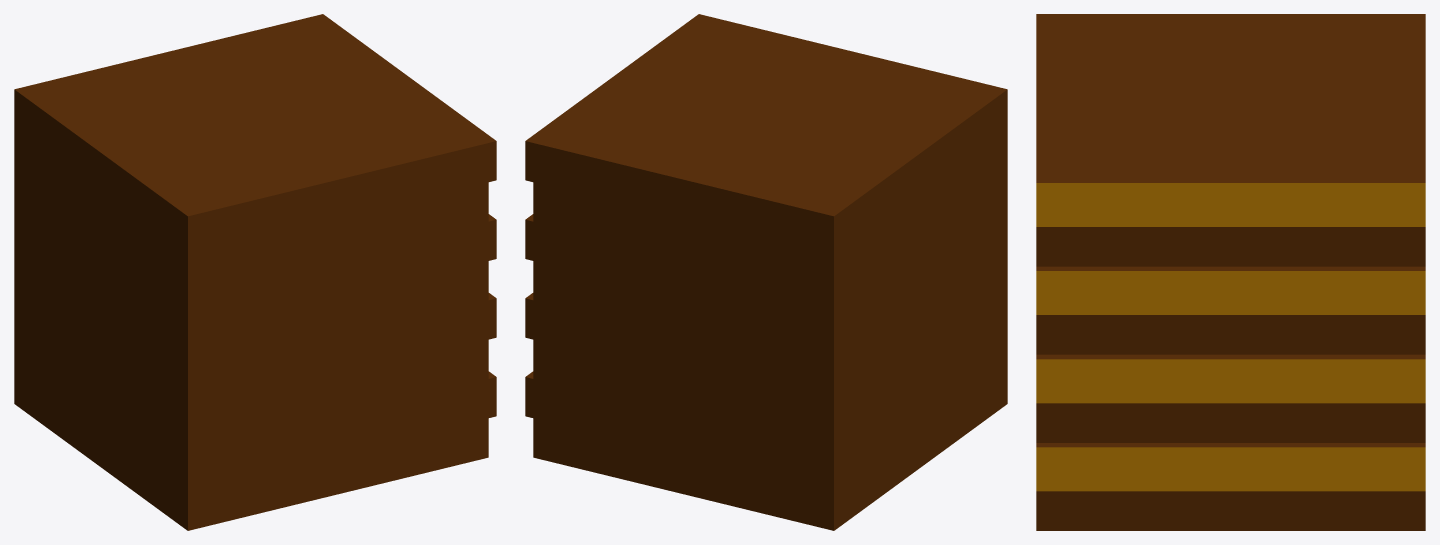
The model's file is crate.fbx.
3 views of the same model, side by side, from view 1: azimuth 30°, elevation 25°; view 2: azimuth 150°, elevation 25°; view 3: azimuth 270°, elevation 25° (orthographic). The views are drawn at different scales.
Parts seen in each view (by area): view 1: Cube.003; view 2: Cube.003; view 3: Cube.003.
Part boxes in pixels (x1,y1,x2,y2): Cube.003: (14, 14, 496, 530); Cube.003: (525, 14, 1007, 530); Cube.003: (1036, 14, 1425, 530).
Size of the model in its own units: 420 by 408 by 408.
